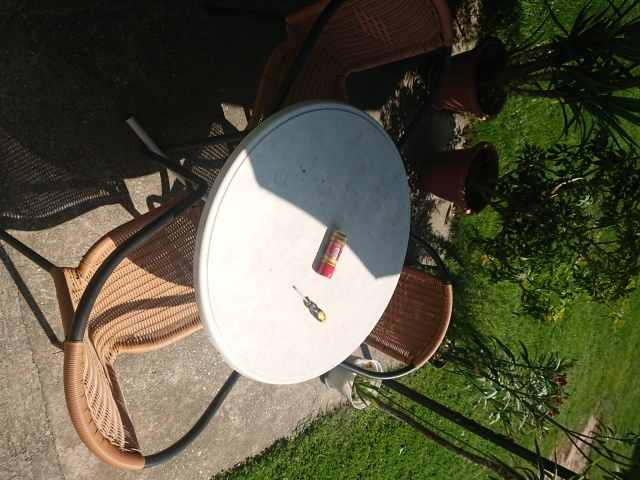Kotanyi Curry Spices Mix 70g: (315, 228, 348, 281)
